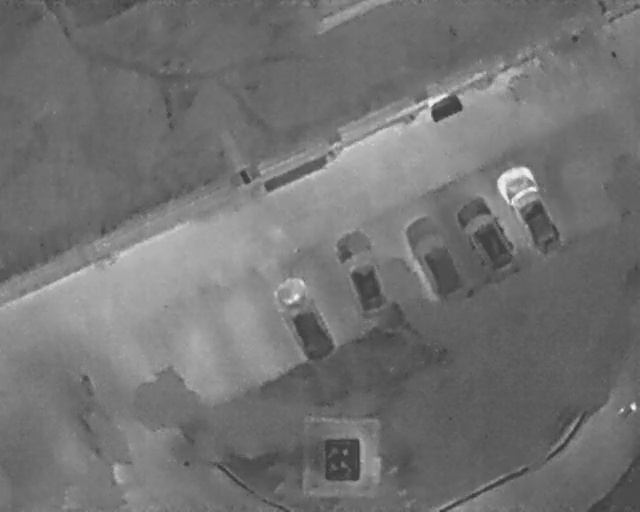Car: (265, 270, 344, 370), (492, 159, 568, 261), (396, 209, 471, 304), (446, 190, 525, 280), (328, 225, 397, 321)
